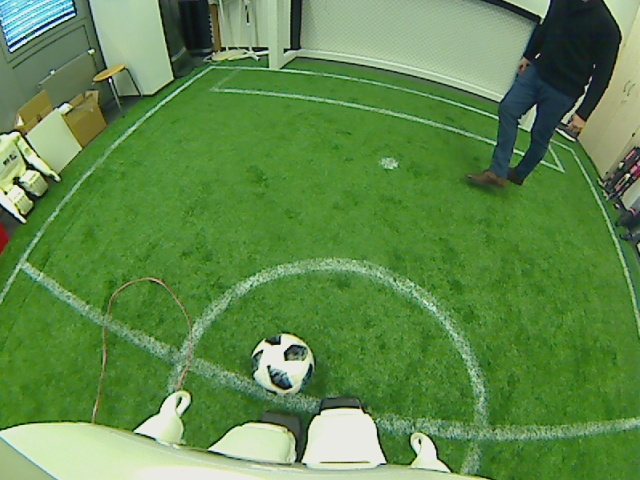ball: (249, 331, 315, 395)
